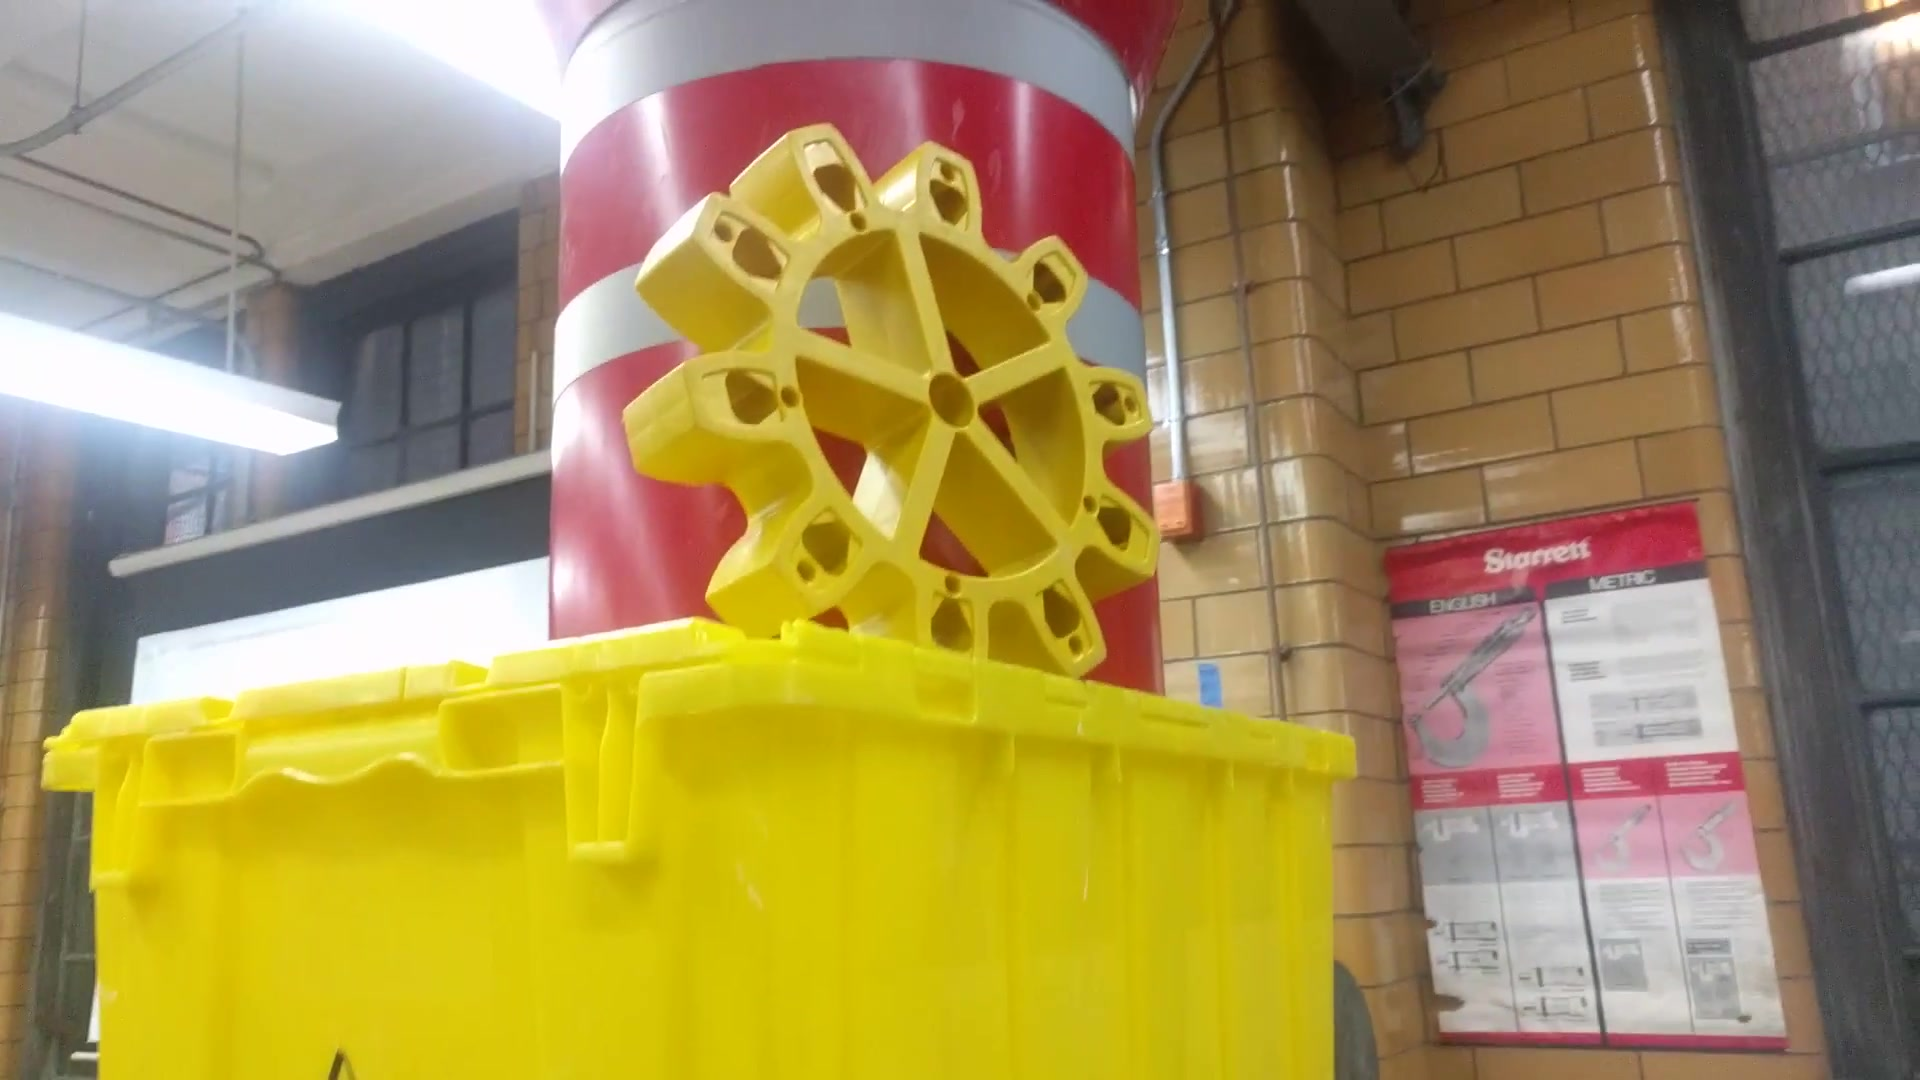gear: (618, 116, 1160, 680)
